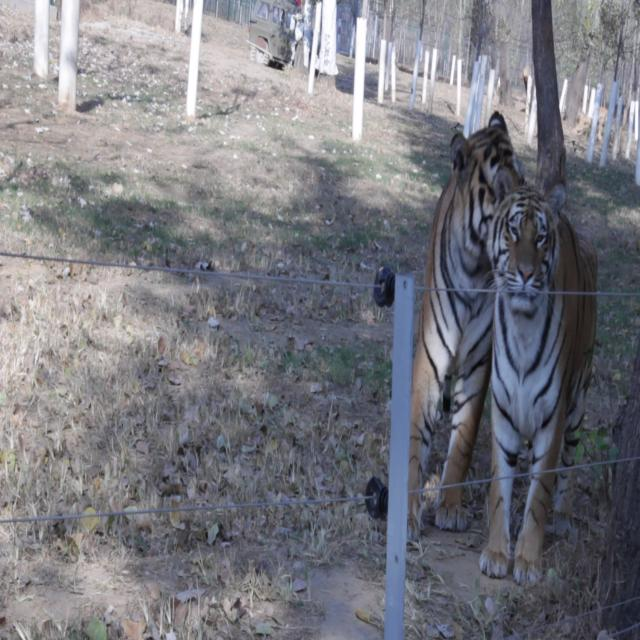Tiger: (399, 107, 526, 543), (477, 165, 597, 588)
